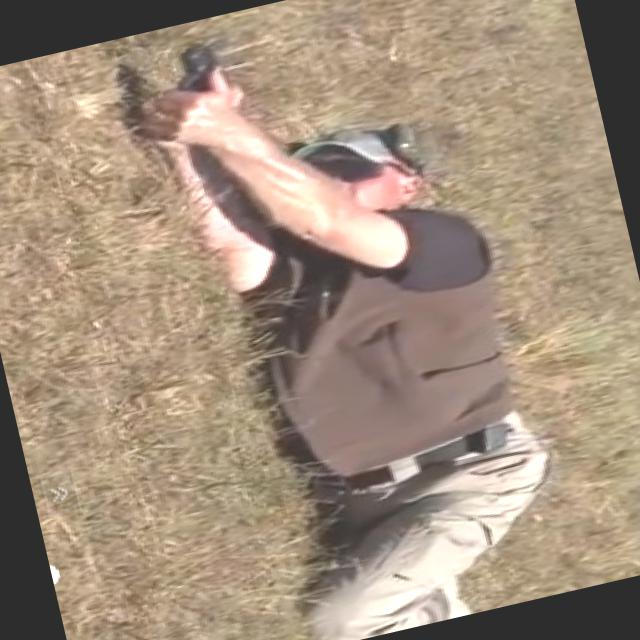handgun: (145, 34, 264, 132)
